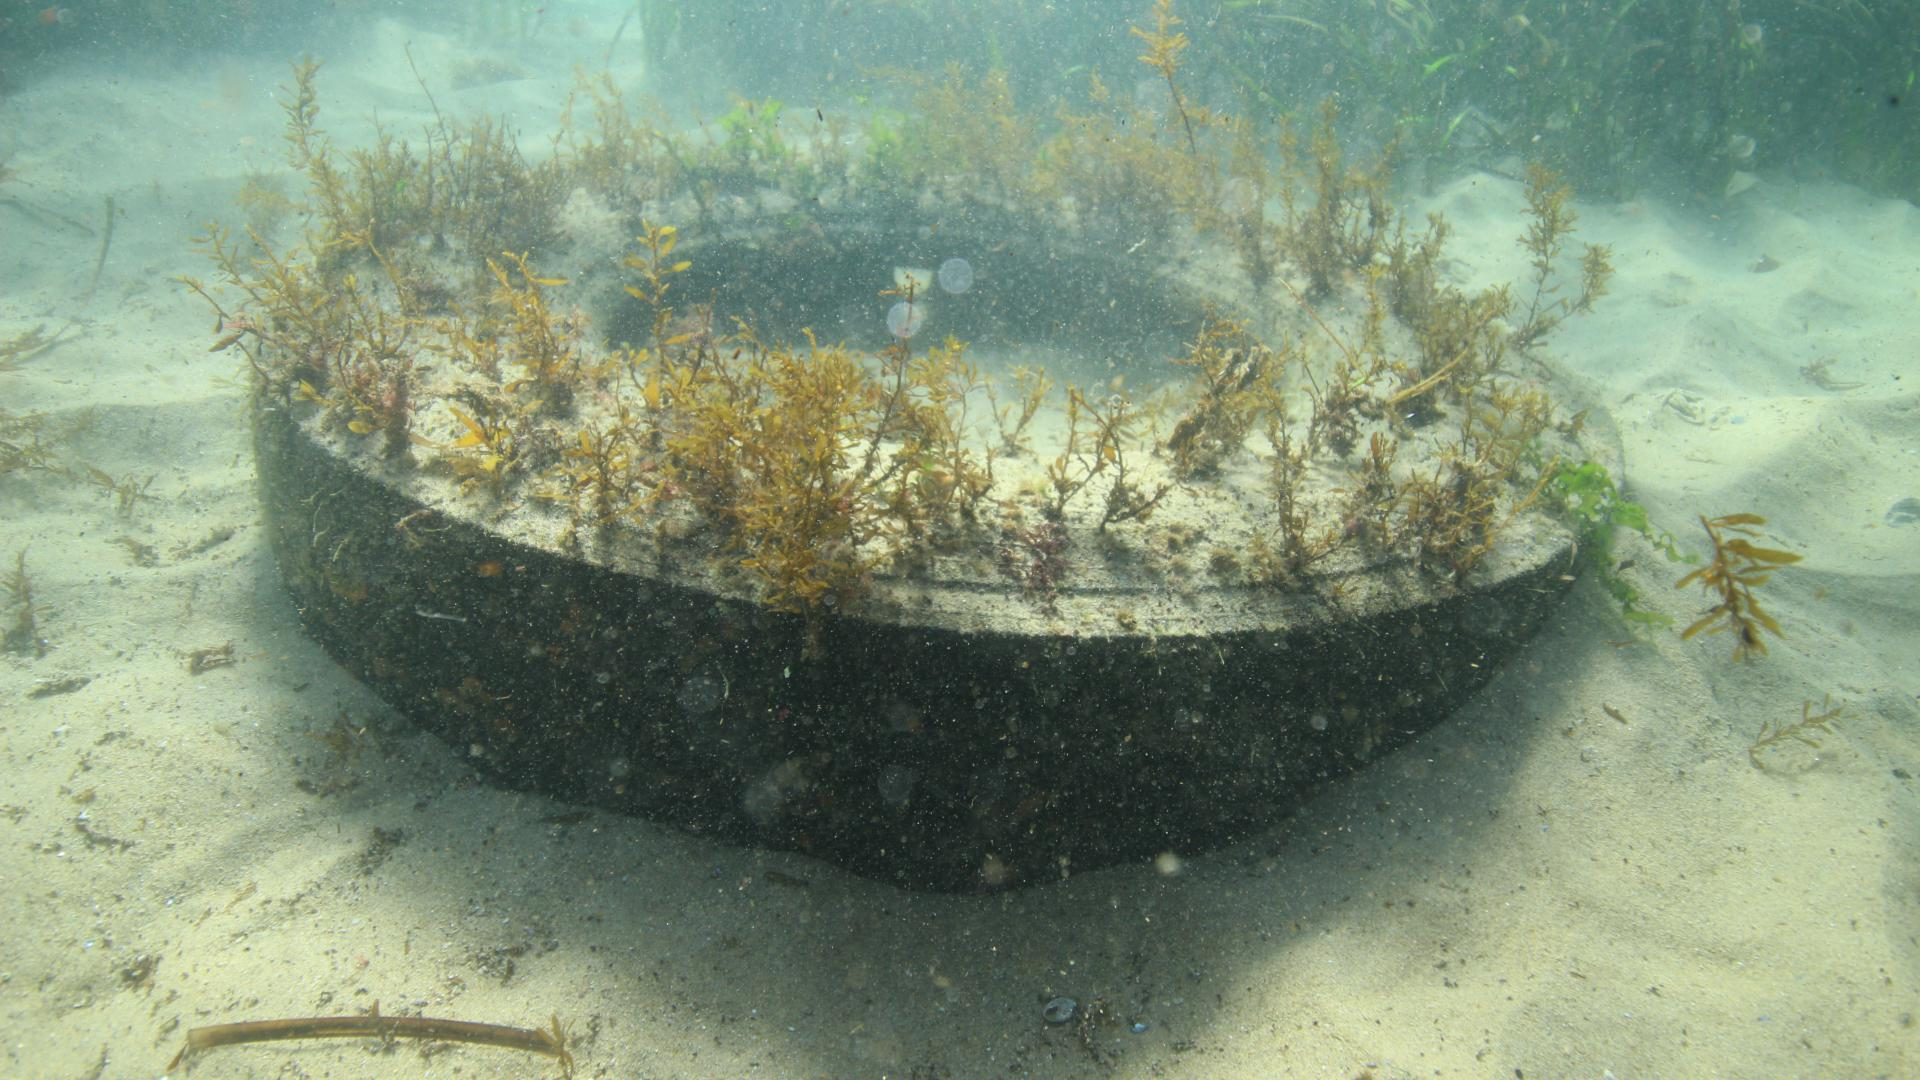tire: (251, 128, 1631, 895)
